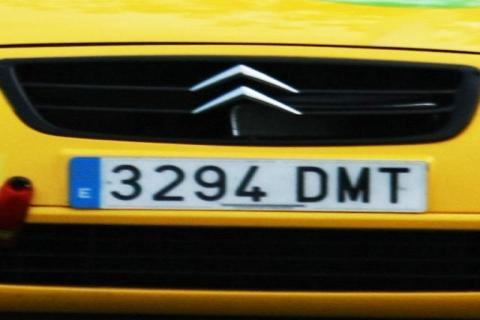LicensePlate: (64, 154, 438, 216)
